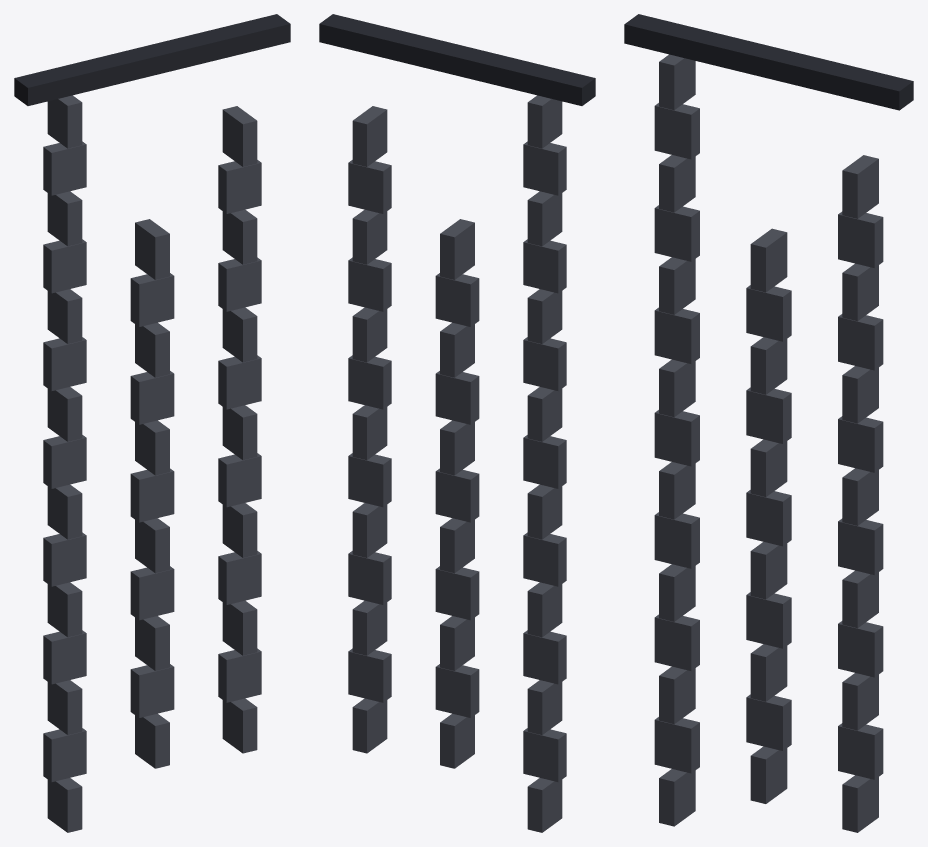
File: chains_hanging.fbx
3 views of the same model, side by side, from view 1: azimuth 30°, elevation 25°; view 2: azimuth 150°, elevation 25°; view 3: azimuth 330°, elevation 25° (orthographic). The views are drawn at different scales.
Parts seen in each view (by area): view 1: chains_hanging; view 2: chains_hanging; view 3: chains_hanging.
Part boxes in pixels (x1,y1,x2,y2): chains_hanging: (14,14,290,832); chains_hanging: (319,14,595,832); chains_hanging: (624,14,913,832).
Bounding box in the file's own units: 0.9 × 2.46 × 0.12.
